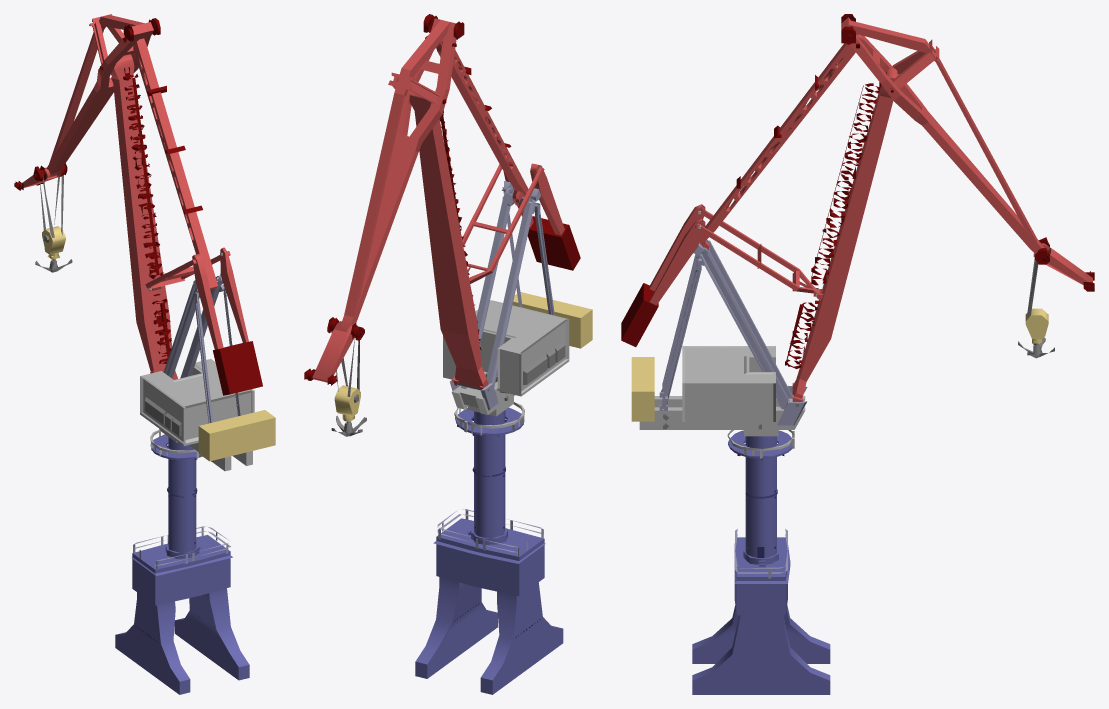
Rendered from crane.glb.
The picture shows the model from 3 angles, left to right: view 1: azimuth 30°, elevation 25°; view 2: azimuth 150°, elevation 25°; view 3: azimuth 270°, elevation 25°; orthographic projection. The views are drawn at different scales.
Parts seen in each view (by area): view 1: Object_4, Object_3, Object_11, Object_6, Object_10, Object_5, Object_9, Object_7, Object_2; view 2: Object_4, Object_3, Object_11, Object_5, Object_6, Object_10, Object_9; view 3: Object_4, Object_3, Object_11, Object_5, Object_6, Object_10, Object_7, Object_2.
Boxes of the visible parts, box(x1,y1,x2,y2) form: Object_4: box(22, 14, 248, 379); Object_3: box(115, 434, 249, 694); Object_11: box(140, 252, 254, 471); Object_6: box(14, 18, 262, 395); Object_10: box(42, 226, 275, 461); Object_5: box(133, 274, 240, 569); Object_9: box(35, 174, 213, 461); Object_7: box(100, 66, 171, 363); Object_2: box(92, 21, 131, 64); Object_4: box(312, 18, 564, 389); Object_3: box(415, 407, 563, 694); Object_11: box(443, 169, 569, 435); Object_5: box(437, 181, 554, 556); Object_6: box(304, 14, 580, 385); Object_10: box(334, 292, 592, 422); Object_9: box(331, 331, 565, 436); Object_4: box(649, 17, 1092, 401); Object_3: box(692, 430, 830, 694); Object_11: box(639, 211, 818, 458); Object_5: box(659, 239, 807, 578); Object_6: box(621, 14, 1094, 365); Object_10: box(631, 308, 1048, 421); Object_7: box(785, 43, 893, 368); Object_2: box(892, 46, 935, 89).
Bounding box in the file's own units: 9.93 × 75.02 × 49.16.
